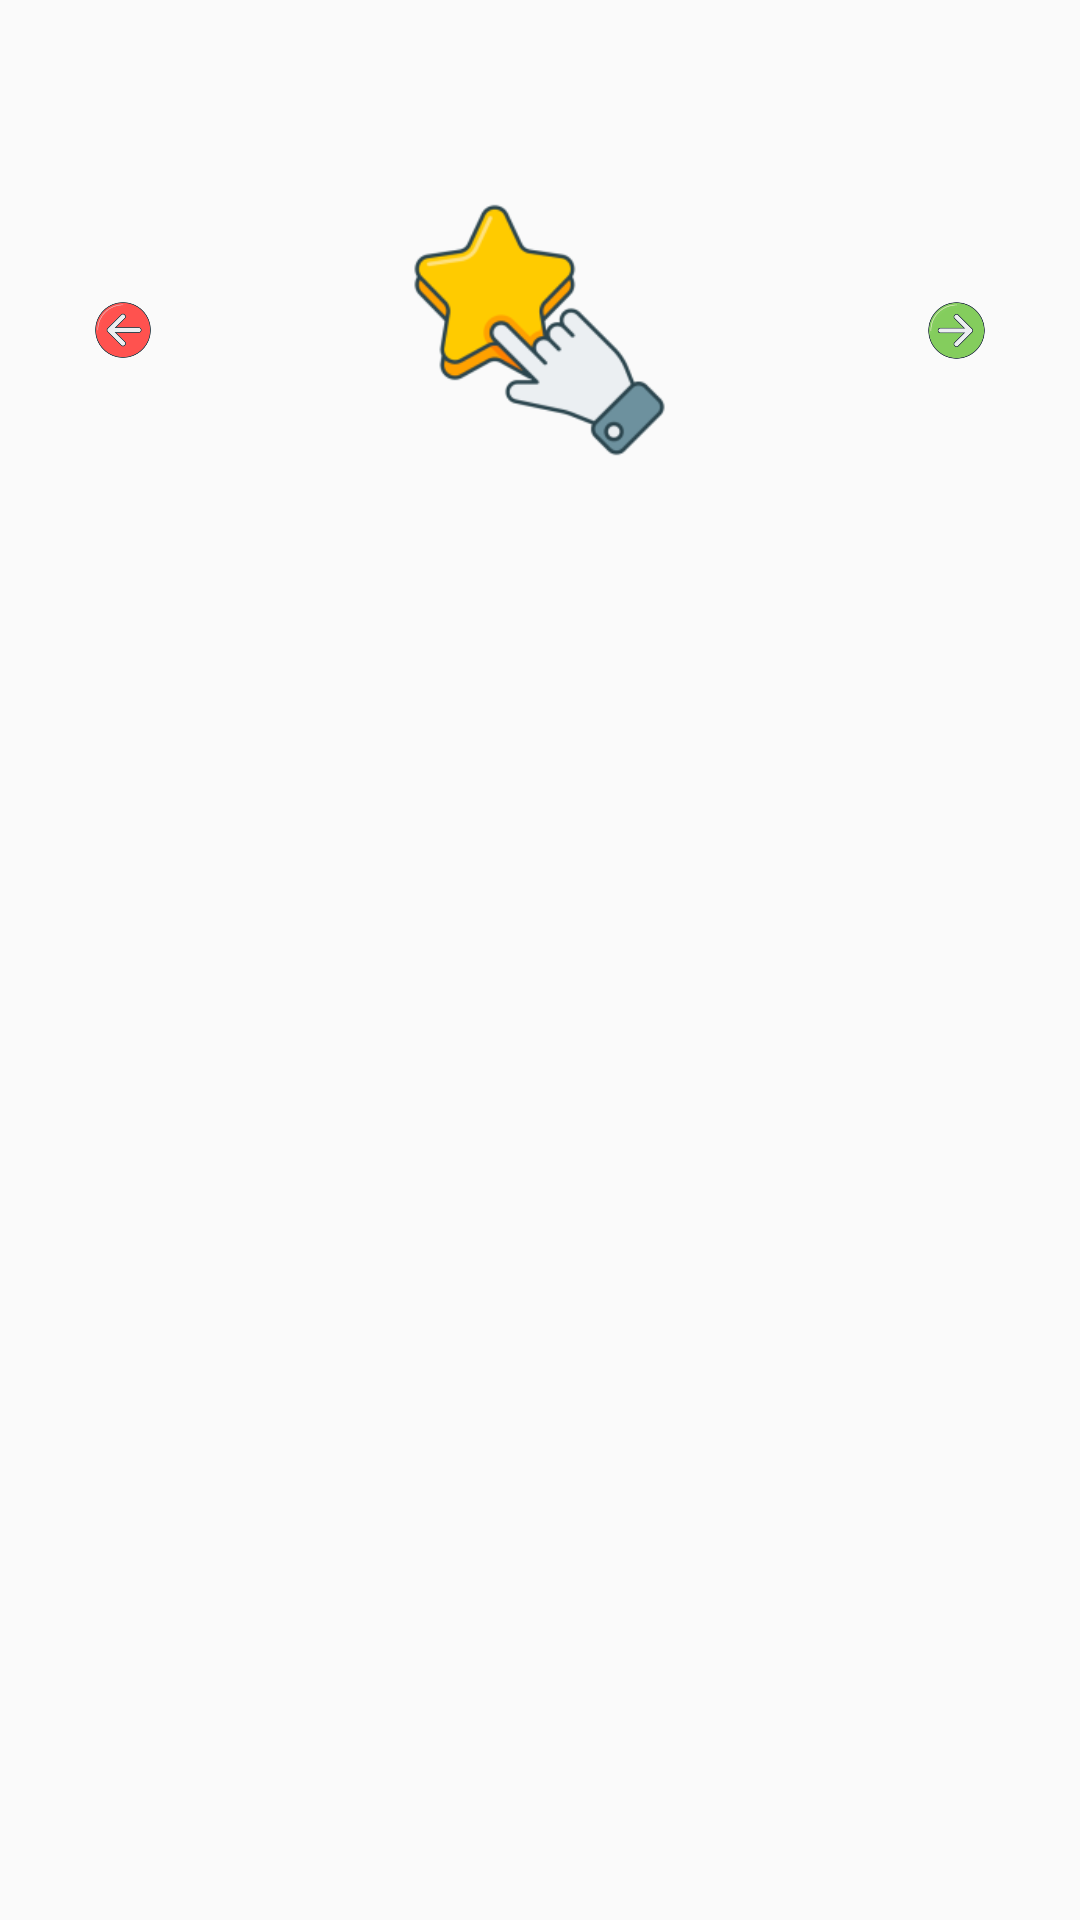

Named icons in this screenshot (1080 × 1920) and their centers, [x,y]:
back: [123,330]
next: [956,330]
survey rate: [539,330]
